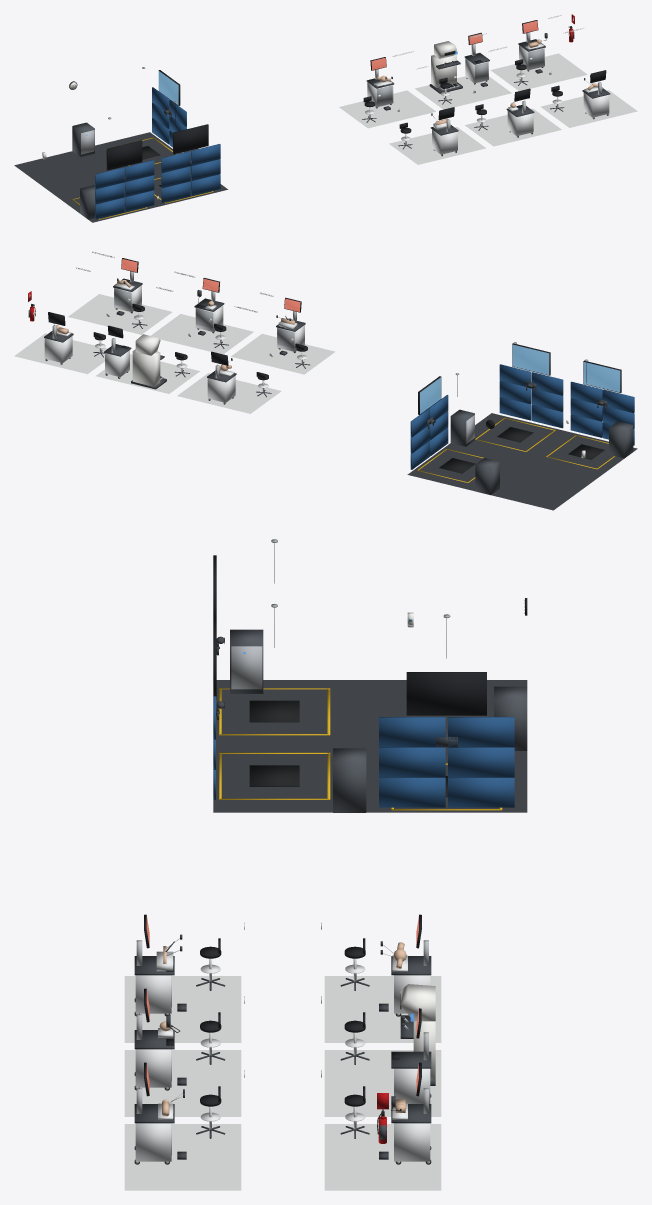
File: 28_n2_realidad_virtual.glb
The picture shows the model from 3 angles, top to bottom: view 1: azimuth 30°, elevation 25°; view 2: azimuth 150°, elevation 25°; view 3: azimuth 270°, elevation 25°; orthographic projection. The views are drawn at different scales.
Parts seen in each view (by area): view 1: panel_acolchado (×6), piso · Realidad virtual inmersiva · 3 estaciones, pantalla_65 (×3), piso · Simulación háptica 4, piso · Simulación háptica 6, piso · Simulación háptica 5, piso · Simulación háptica 3, piso · Simulación háptica 2, piso · Simulación háptica 1, consola_cirujano, gabinete_pc (×2), sim_laparoscopia (+5 smaller); view 2: piso · Realidad virtual inmersiva · 3 estaciones, panel_acolchado (×6), pantalla_65 (×3), gabinete_pc (×3), piso · Simulación háptica 1, estacion_rv (×3), piso · Simulación háptica 2, piso · Simulación háptica 3, piso · Simulación háptica 4, piso · Simulación háptica 6, consola_cirujano, sim_artroscopia_hombro (+6 smaller); view 3: piso · Realidad virtual inmersiva · 3 estaciones, panel_acolchado (×2), piso · Simulación háptica 3, piso · Simulación háptica 6, gabinete_pc (×3), piso · Simulación háptica 2, piso · Simulación háptica 1, piso · Simulación háptica 4, piso · Simulación háptica 5, estacion_rv (×2), pantalla_65, sim_artroscopia_rodilla (+6 smaller).
Boxes of the visible parts, bbox=[...] form: panel_acolchado (×6): bbox=[95, 87, 220, 219]; piso · Realidad virtual inmersiva · 3 estaciones: bbox=[14, 132, 227, 222]; pantalla_65 (×3): bbox=[106, 70, 208, 170]; piso · Simulación háptica 4: bbox=[339, 90, 435, 128]; piso · Simulación háptica 6: bbox=[490, 53, 587, 90]; piso · Simulación háptica 5: bbox=[415, 76, 511, 109]; piso · Simulación háptica 3: bbox=[540, 90, 637, 127]; piso · Simulación háptica 2: bbox=[465, 108, 561, 146]; piso · Simulación háptica 1: bbox=[389, 127, 485, 164]; consola_cirujano: bbox=[429, 41, 462, 93]; gabinete_pc (×2): bbox=[72, 122, 94, 219]; sim_laparoscopia: bbox=[430, 107, 458, 156]; piso · Realidad virtual inmersiva · 3 estaciones: bbox=[407, 413, 637, 510]; panel_acolchado (×6): bbox=[410, 364, 634, 469]; pantalla_65 (×3): bbox=[418, 343, 621, 414]; gabinete_pc (×3): bbox=[450, 409, 633, 495]; piso · Simulación háptica 1: bbox=[231, 333, 335, 374]; estacion_rv (×3): bbox=[417, 342, 614, 482]; piso · Simulación háptica 2: bbox=[151, 314, 253, 354]; piso · Simulación háptica 3: bbox=[68, 294, 172, 334]; piso · Simulación háptica 4: bbox=[177, 373, 281, 413]; piso · Simulación háptica 6: bbox=[14, 333, 107, 374]; consola_cirujano: bbox=[131, 334, 166, 389]; sim_artroscopia_hombro: bbox=[207, 351, 236, 404]; piso · Realidad virtual inmersiva · 3 estaciones: bbox=[213, 680, 527, 812]; panel_acolchado (×2): bbox=[379, 717, 514, 807]; piso · Simulación háptica 3: bbox=[124, 1124, 241, 1190]; piso · Simulación háptica 6: bbox=[324, 1124, 441, 1190]; gabinete_pc (×3): bbox=[230, 629, 527, 812]; piso · Simulación háptica 2: bbox=[124, 1050, 241, 1116]; piso · Simulación háptica 1: bbox=[124, 976, 241, 1042]; piso · Simulación háptica 4: bbox=[324, 976, 441, 1042]; piso · Simulación háptica 5: bbox=[324, 1050, 441, 1116]; estacion_rv (×2): bbox=[216, 539, 330, 799]; pantalla_65: bbox=[406, 672, 486, 715]; sim_artroscopia_rodilla: bbox=[134, 1062, 186, 1164].
Bounding box in the file's own units: 21.75 × 3.4 × 7.25.
29 materials, 2 textured.
